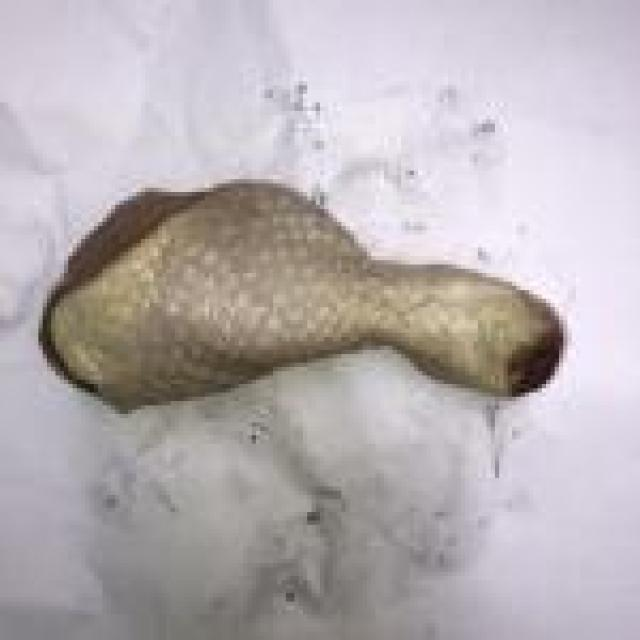leg: (39, 174, 571, 436)
